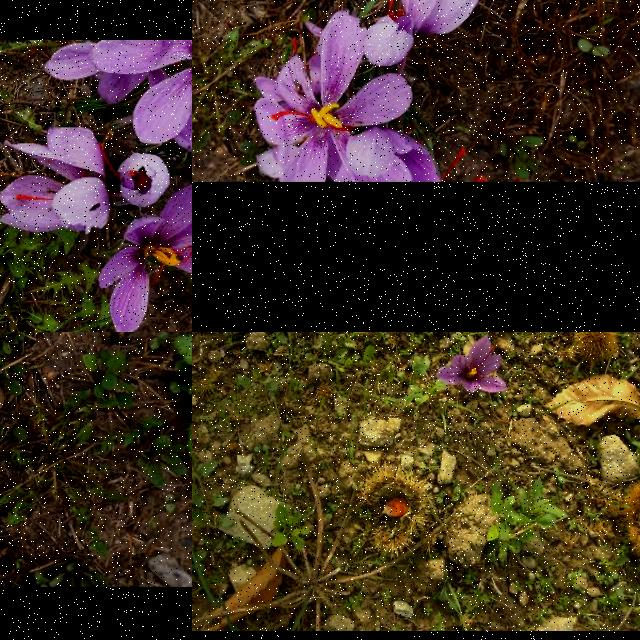flower: (97, 184, 192, 332), (0, 128, 111, 236), (100, 144, 170, 208), (436, 335, 508, 393), (400, 0, 486, 35)
overlap: (253, 0, 485, 182), (43, 40, 192, 320)
